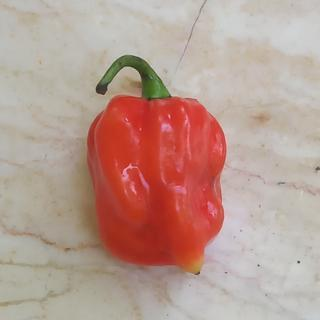Grade-A: (83, 92, 228, 278)
